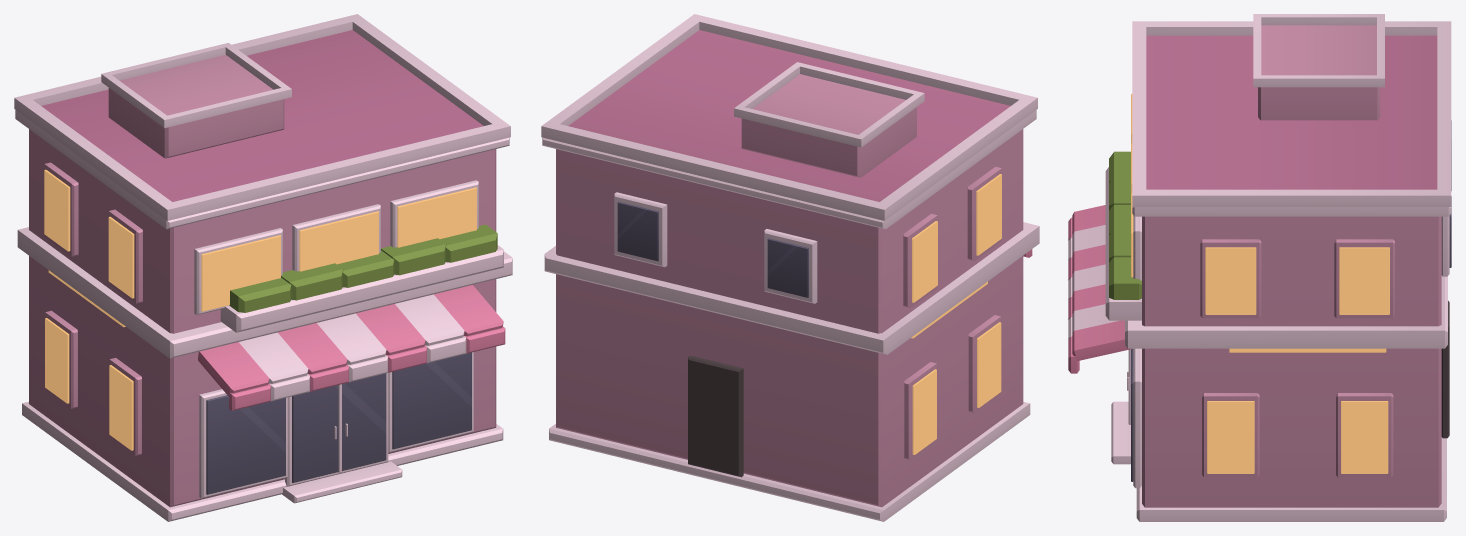
The model's file is 04D-market-threejs.glb.
The picture shows the model from 3 angles, left to right: view 1: azimuth 30°, elevation 25°; view 2: azimuth 150°, elevation 25°; view 3: azimuth 270°, elevation 25°; orthographic projection. The views are drawn at different scales.
Visible parts, largest first — view 1: 04D / trim, 04D / wall, 04D / roof, 04D / glass, 04D / glow, 04D / accent, 04D / green; view 2: 04D / wall, 04D / trim, 04D / roof, 04D / glow, 04D / dark, 04D / glass; view 3: 04D / wall, 04D / trim, 04D / roof, 04D / glow, 04D / accent, 04D / green, 04D / dark, 04D / glass.
Part boxes in pixels (box(x1,y1,x2,y2)): 04D / trim: box(14, 14, 512, 521); 04D / wall: box(29, 55, 496, 507); 04D / roof: box(41, 30, 483, 201); 04D / glass: box(206, 352, 471, 494); 04D / glow: box(44, 169, 476, 450); 04D / accent: box(198, 285, 505, 410); 04D / green: box(229, 224, 497, 312); 04D / wall: box(556, 74, 1023, 507); 04D / trim: box(541, 14, 1039, 521); 04D / roof: box(568, 30, 1010, 201); 04D / glow: box(911, 174, 1001, 454); 04D / dark: box(688, 355, 743, 477); 04D / glass: box(617, 201, 808, 297); 04D / wall: box(1142, 25, 1441, 507); 04D / trim: box(1068, 14, 1451, 521); 04D / roof: box(1146, 35, 1437, 189); 04D / glow: box(1131, 94, 1389, 473); 04D / accent: box(1068, 205, 1132, 373); 04D / green: box(1109, 151, 1141, 299); 04D / dark: box(1441, 300, 1449, 438); 04D / glass: box(1131, 120, 1451, 481).
Size of the model in its own units: 6.17 by 6 by 5.73.
8 materials, 8 textured.
